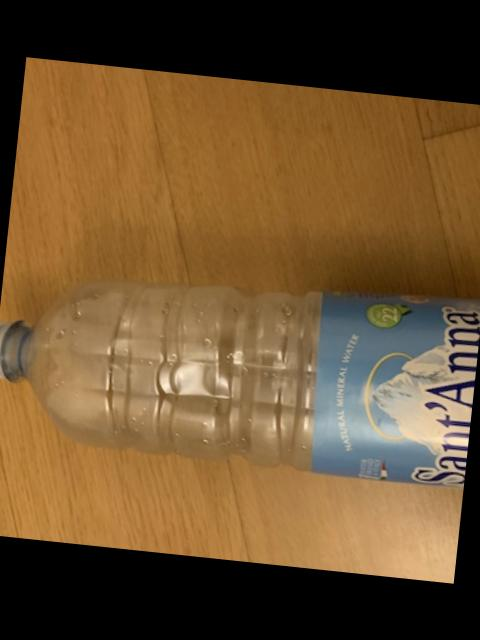plastic: (0, 283, 480, 488)
